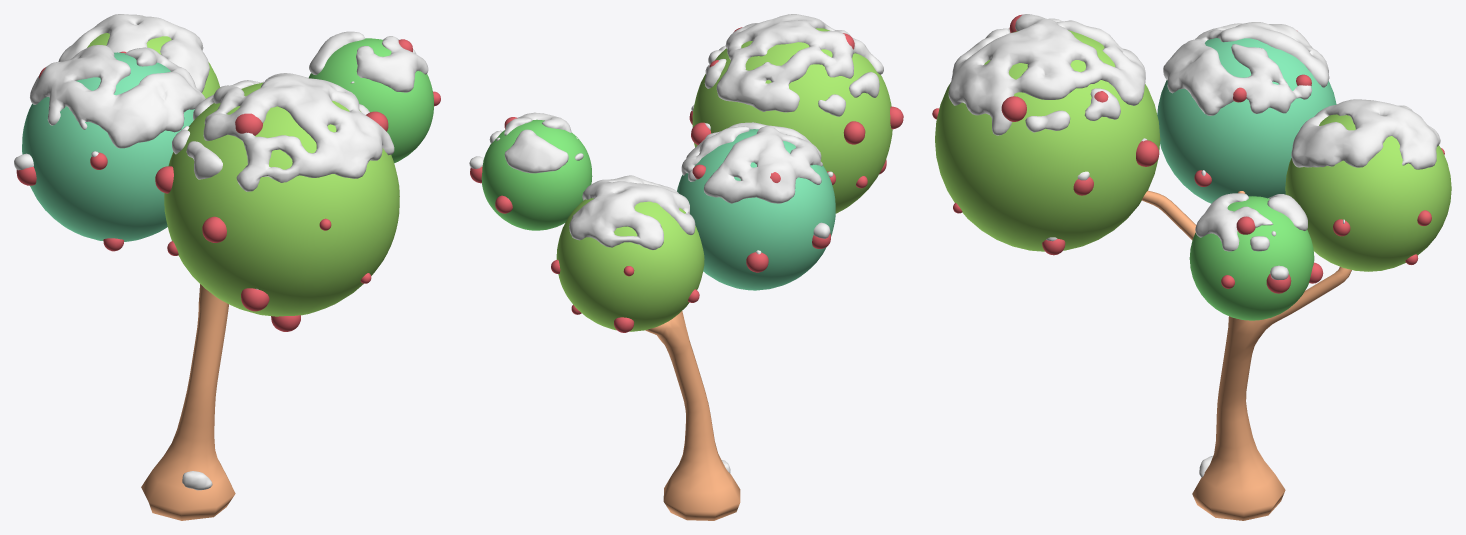
File: apple_tree.glb
The picture shows the model from 3 angles, left to right: view 1: azimuth 30°, elevation 25°; view 2: azimuth 150°, elevation 25°; view 3: azimuth 270°, elevation 25°; orthographic projection. The views are drawn at different scales.
Parts seen in each view (by area): view 1: Apple_Tree.001, SnowBall.001; view 2: Apple_Tree.001, SnowBall.001; view 3: Apple_Tree.001, SnowBall.001.
Boxes of the visible parts, x1,y1,x2,y2 form: Apple_Tree.001: [16, 33, 440, 520]; SnowBall.001: [14, 14, 428, 490]; Apple_Tree.001: [470, 27, 903, 520]; SnowBall.001: [469, 14, 883, 472]; Apple_Tree.001: [932, 14, 1451, 520]; SnowBall.001: [948, 14, 1440, 477].
Size of the model in its own units: 1.66 by 1.94 by 1.9.
